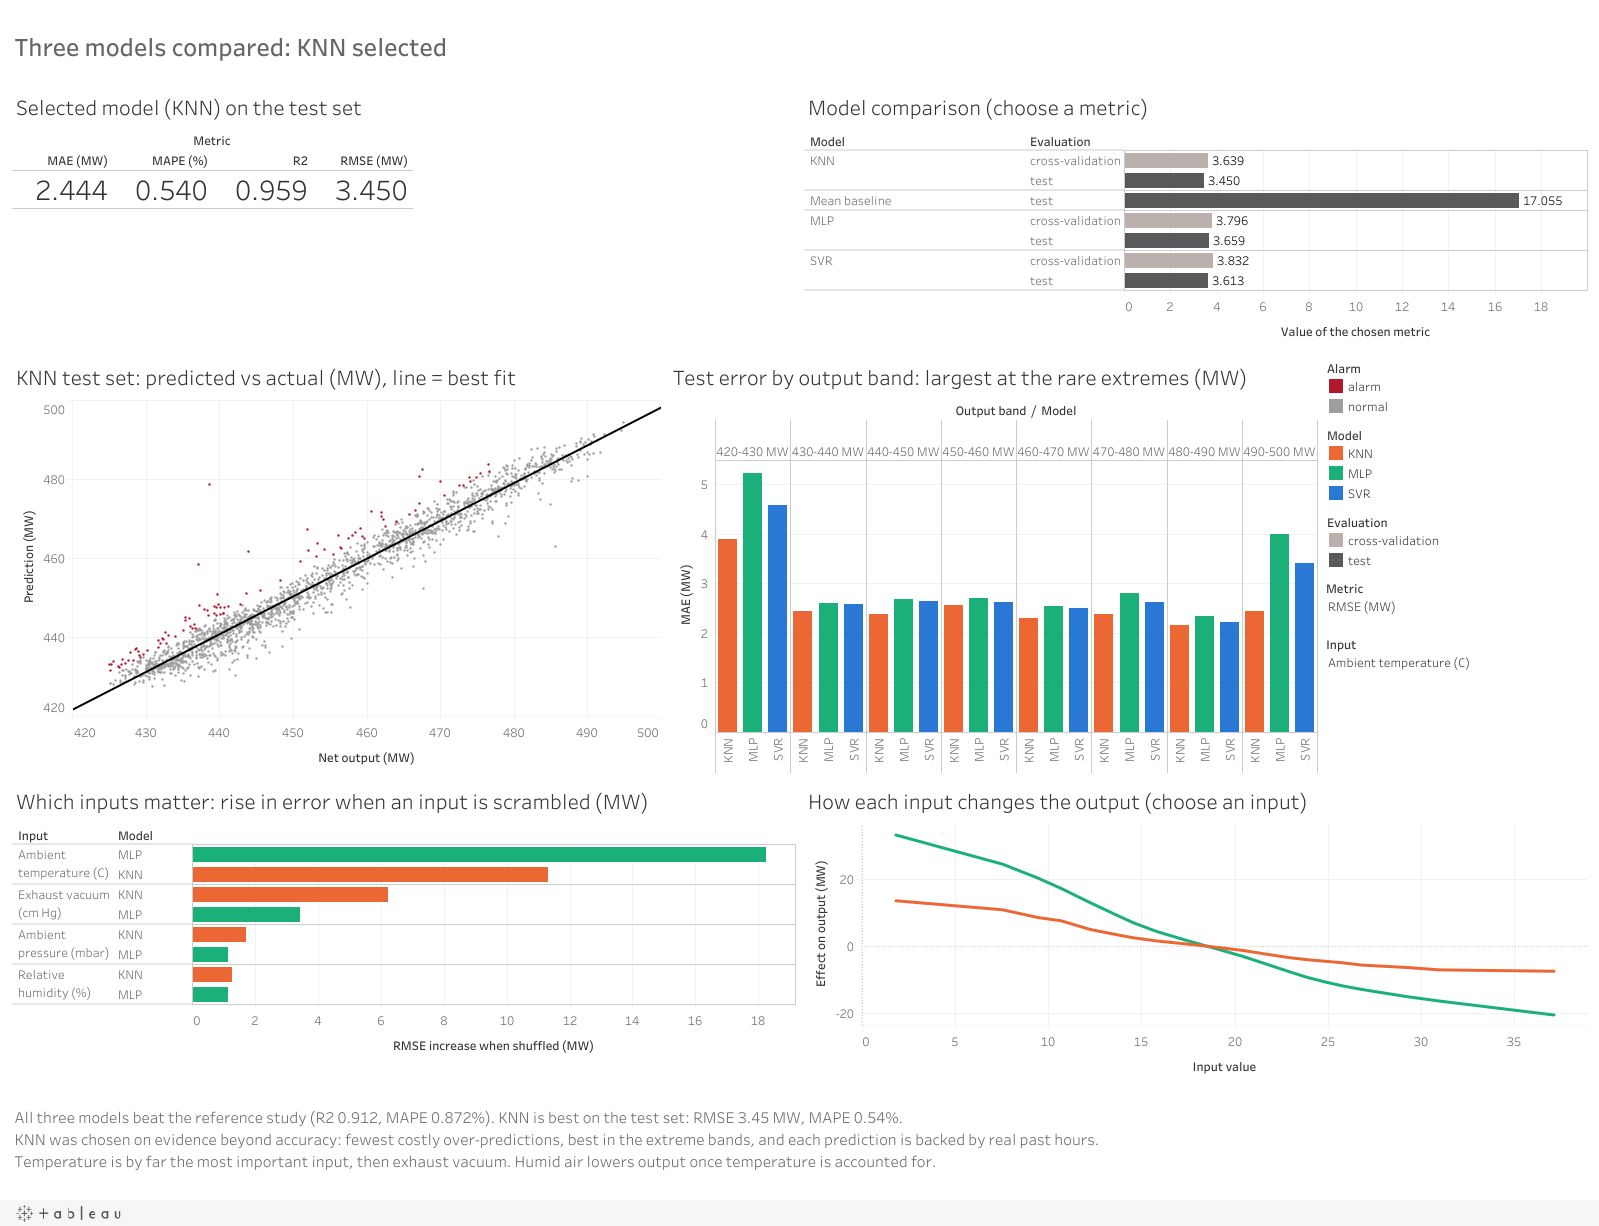

What the dashboard file says about the page in this screenshot:
{"tool":"tableau","page":{"name":"Model performance","canvas":[1600,1200],"ordinal":1},"visuals":[{"type":"text","box":[8,8,1584,75.2]},{"type":"worksheet","title":"KPI KNN test","mark":"Automatic","cols":["Metric"],"box":[8,83.2,792,270.1]},{"type":"worksheet","title":"Model comparison","mark":"Automatic","rows":["Model","Evaluation"],"cols":["Value"],"box":[800,83.2,792,270.1]},{"type":"worksheet","title":"Predicted vs actual","mark":"Circle","rows":["Prediction (MW)"],"cols":["Net output (MW)"],"box":[8,353.3,657,423.5]},{"type":"worksheet","title":"Error by output band","mark":"Automatic","rows":["MAE (MW)"],"cols":["Output band","Model"],"box":[665,353.3,657,423.5]},{"type":"legend","title":"Predicted vs actual","param":"[federated.0cw6bld19u7vyt1air5vq1tj6jl8].[none:Alarm:nk]","box":[1322,353.3,270,66]},{"type":"legend","title":"Error by output band","param":"[federated.0e9xau10v0vich1b5a3ce1uyivtq].[none:Model:nk]","box":[1322,419.3,270,86]},{"type":"legend","title":"Model comparison","param":"[federated.0ifk1ga0sx0u551bw4qek1yuq3j2].[none:Evaluation:nk]","box":[1322,505.3,270,66]},{"type":"filter","title":"Model comparison","param":"[federated.0ifk1ga0sx0u551bw4qek1yuq3j2].[none:Metric:nk]","box":[1322,571.3,270,52]},{"type":"filter","title":"Input effects","param":"[federated.0mc0arl1kt08lt17ks2pq0t41cz2].[none:Input:nk]","box":[1322,623.3,270,52]},{"type":"worksheet","title":"Input importance","mark":"Automatic","rows":["Input","Model"],"cols":["RMSE increase when shuffled (MW)"],"box":[8,776.8,792,309.4]},{"type":"worksheet","title":"Input effects","mark":"Line","rows":["Effect on output (MW)"],"cols":["Input value"],"box":[800,776.8,792,309.4]},{"type":"text","box":[8,1086.2,1584,105.8]}]}

Visuals, with their boxes on the page's 1600x1200 design canvas (x1, y1, x2, y2). These are canvas units, not pixel positions in the 1599x1226 screenshot, which may show the page scaled, cropped or inside an application window:
text: l=8, t=8, r=1592, b=83
"KPI KNN test" worksheet: l=8, t=83, r=800, b=353
"Model comparison" worksheet: l=800, t=83, r=1592, b=353
"Predicted vs actual" worksheet (Circle marks): l=8, t=353, r=665, b=777
"Error by output band" worksheet: l=665, t=353, r=1322, b=777
"Predicted vs actual" legend: l=1322, t=353, r=1592, b=419
"Error by output band" legend: l=1322, t=419, r=1592, b=505
"Model comparison" legend: l=1322, t=505, r=1592, b=571
"Model comparison" filter: l=1322, t=571, r=1592, b=623
"Input effects" filter: l=1322, t=623, r=1592, b=675
"Input importance" worksheet: l=8, t=777, r=800, b=1086
"Input effects" worksheet (Line marks): l=800, t=777, r=1592, b=1086
text: l=8, t=1086, r=1592, b=1192
